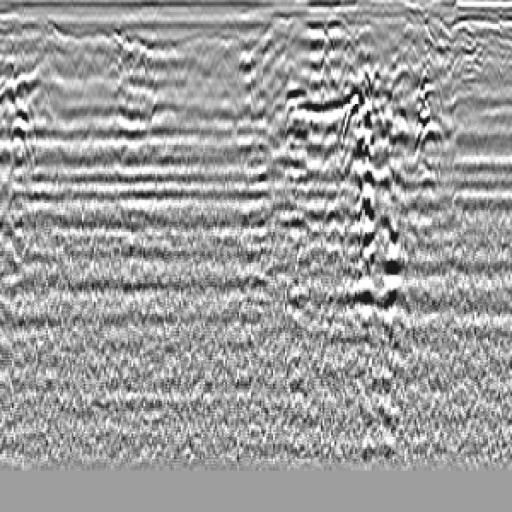metalic: (401, 51, 467, 257)
